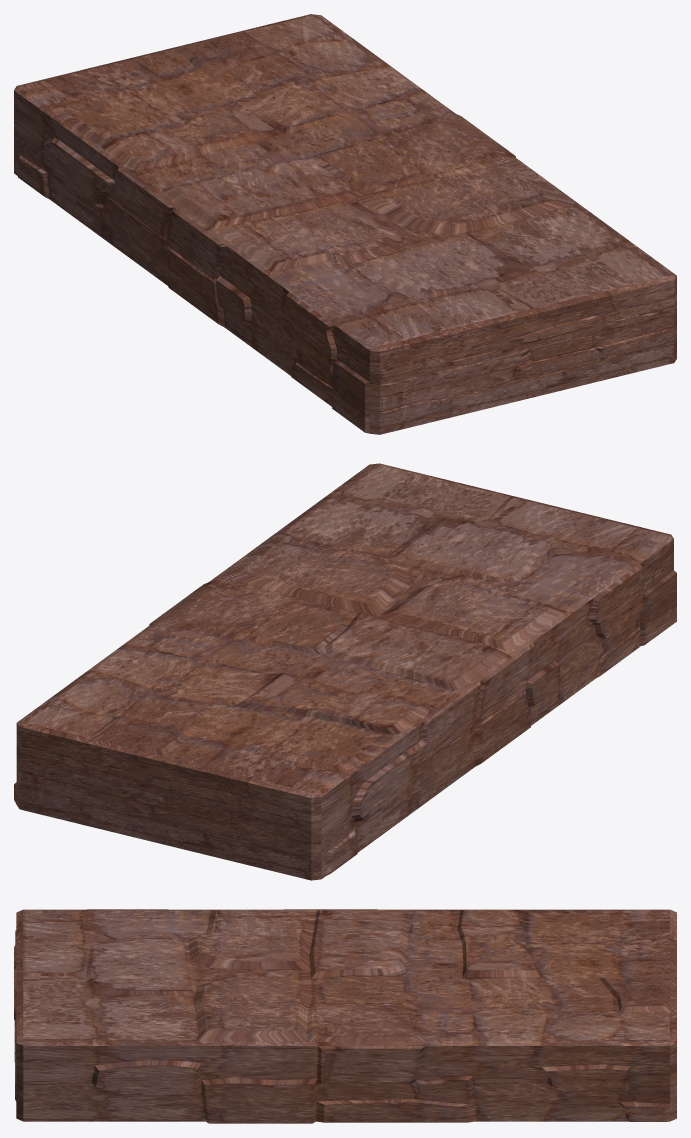
The model's file is Plano_Ponte.fbx.
3 views of the same model, one above another, from view 1: azimuth 30°, elevation 25°; view 2: azimuth 150°, elevation 25°; view 3: azimuth 270°, elevation 25° (orthographic). The views are drawn at different scales.
Parts seen in each view (by area): view 1: pCube66; view 2: pCube66; view 3: pCube66.
Boxes of the visible parts, x1,y1,x2,y2 form: pCube66: (14, 14, 676, 434); pCube66: (14, 463, 676, 880); pCube66: (14, 909, 676, 1123).
Bounding box in the file's own units: 2.82 × 0.7857 × 5.54.
1 material, 1 textured.
